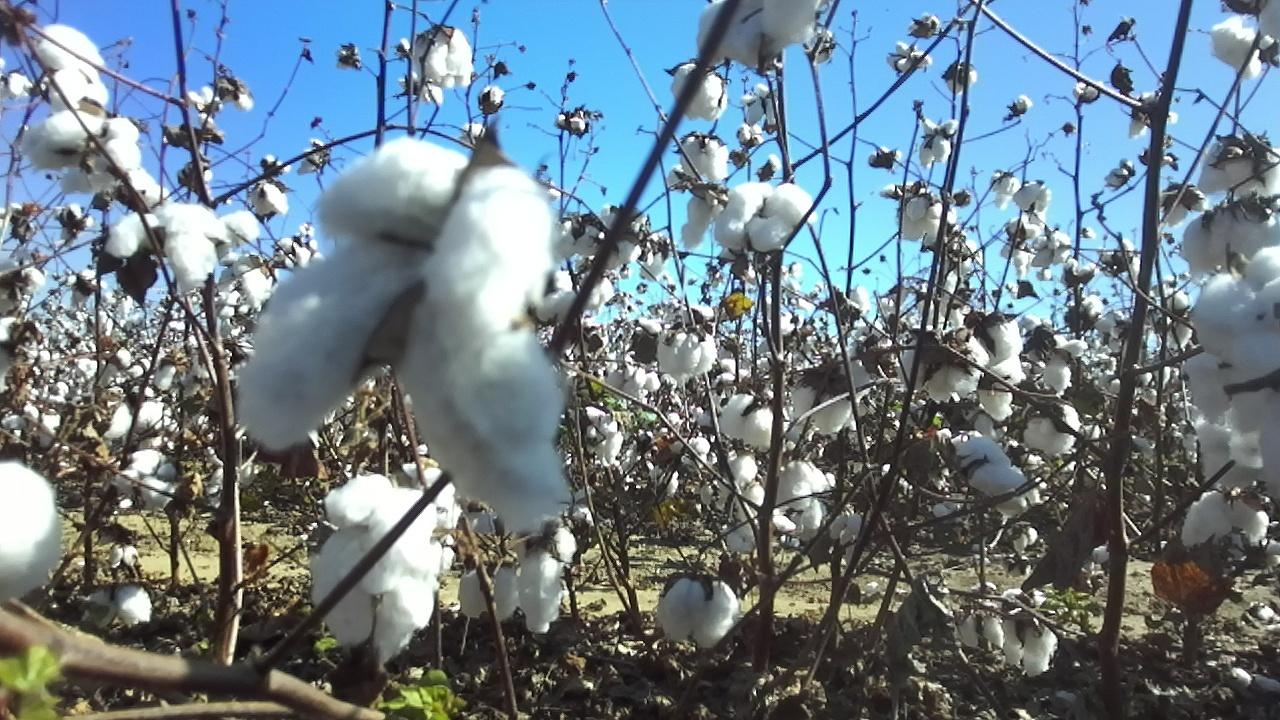cotton_ready: (239, 137, 572, 533), (1184, 244, 1280, 490), (312, 480, 439, 659), (104, 206, 229, 295), (11, 110, 140, 192), (1181, 192, 1280, 285), (0, 457, 64, 598), (694, 0, 817, 67), (509, 520, 575, 634), (716, 179, 814, 251), (789, 355, 877, 434), (901, 327, 992, 403), (952, 435, 1030, 517), (1181, 484, 1272, 553), (657, 577, 739, 647), (654, 302, 717, 383), (879, 180, 954, 246), (979, 309, 1022, 422), (1018, 330, 1090, 397), (1001, 589, 1057, 675), (728, 482, 794, 550), (1197, 134, 1277, 190), (113, 449, 184, 511), (409, 24, 474, 89), (776, 457, 830, 534), (1212, 19, 1274, 81), (715, 390, 776, 453), (954, 584, 1012, 650), (32, 24, 105, 74), (670, 62, 727, 122), (1022, 400, 1082, 455), (681, 184, 727, 250), (678, 130, 730, 185), (45, 70, 109, 110)
